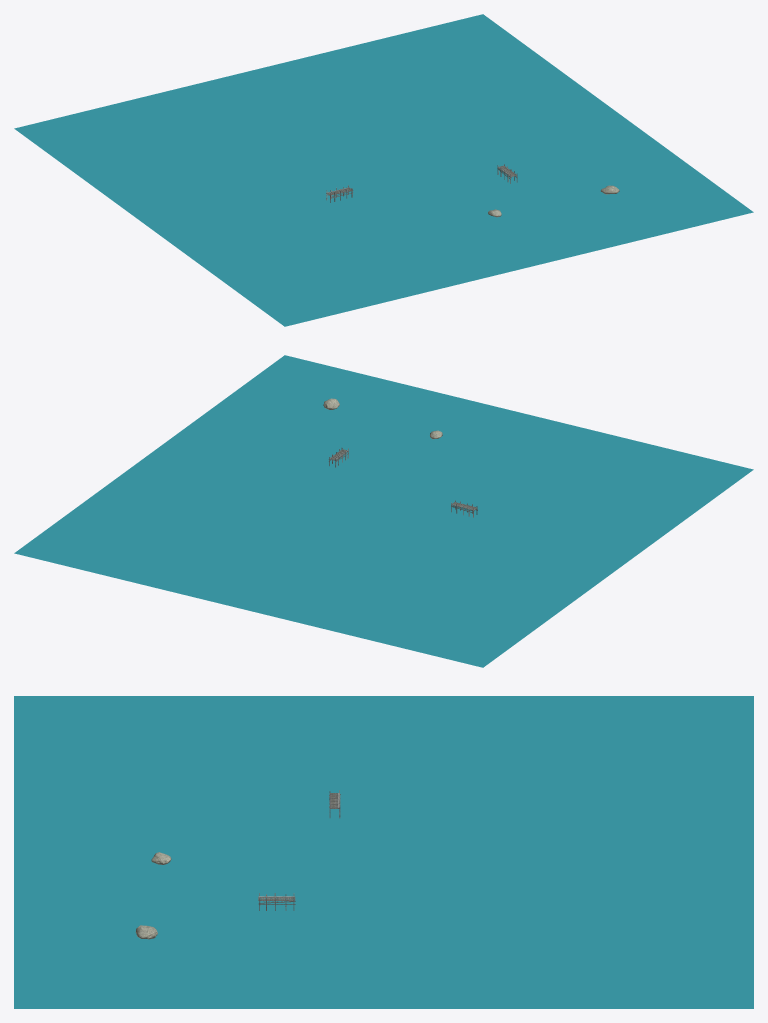
Rendered from coast-1-0.glb.
3 views of the same model, one above another, from view 1: azimuth 30°, elevation 25°; view 2: azimuth 150°, elevation 25°; view 3: azimuth 270°, elevation 25° (orthographic). The views are drawn at different scales.
Parts seen in each view (by area): view 1: coast-1-0; view 2: coast-1-0; view 3: coast-1-0.
Boxes of the visible parts, x1,y1,x2,y2 form: coast-1-0: [14, 14, 753, 326]; coast-1-0: [14, 355, 753, 667]; coast-1-0: [14, 696, 753, 1008].
Size of the model in its own units: 256 by 8.61 by 256.
Materials: 7 (7 with a texture image).
